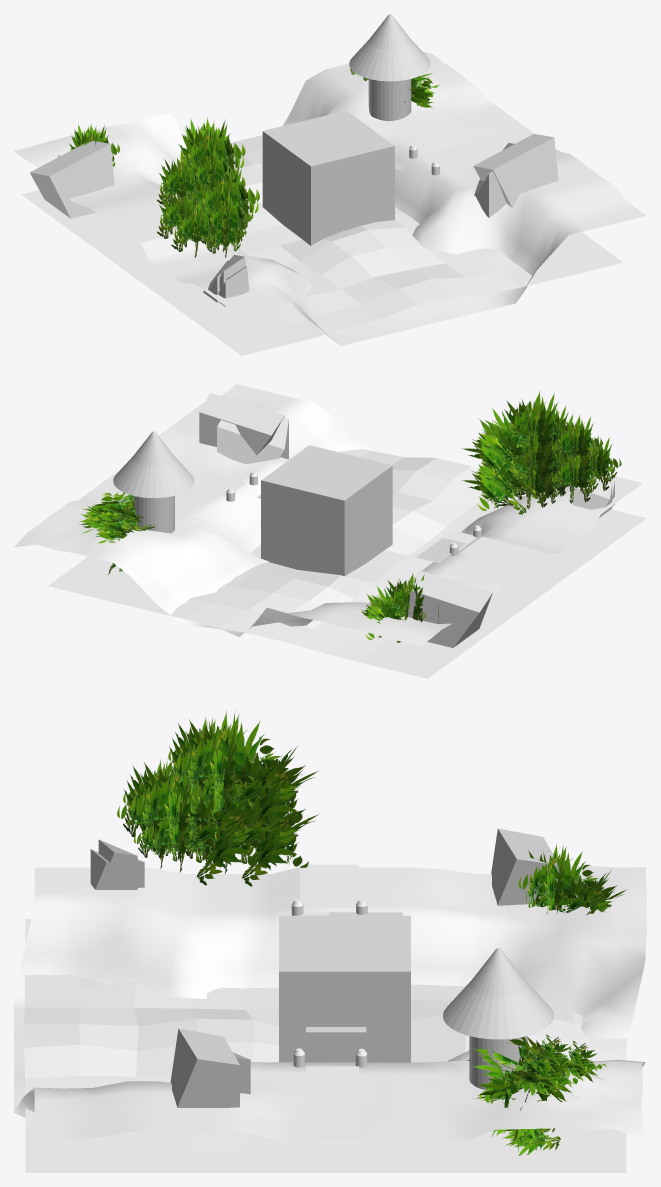
File: nature_river.glb
3 views of the same model, one above another, from view 1: azimuth 30°, elevation 25°; view 2: azimuth 150°, elevation 25°; view 3: azimuth 270°, elevation 25° (orthographic). The views are drawn at different scales.
Parts seen in each view (by area): view 1: Plane, Plane.003, Cube, Cylinder.004, daun.001, daun.004, Cube.004, Cube.003, Plane.004, daun, Cube.002, Plane.005 (+3 smaller); view 2: Plane, Plane.003, Cube, daun.004, daun, Cylinder.004, Cube.004, Cube.003, Cube.002, daun.005, daun.003, Plane.005 (+4 smaller); view 3: Plane, Plane.003, Cube, daun.004, daun.001, Cylinder.004, Cube.003, daun, daun.003, Plane.004, daun.005, Cube.004 (+3 smaller).
Boxes of the visible parts, box(x1,y1,x2,y2) form: Plane: box(14, 52, 646, 345); Plane.003: box(21, 135, 622, 355); Cube: box(262, 110, 394, 245); Cylinder.004: box(349, 14, 430, 121); daun.001: box(171, 164, 259, 257); daun.004: box(157, 117, 245, 212); Cube.004: box(30, 140, 114, 218); Cube.003: box(473, 134, 558, 207); Plane.004: box(418, 129, 530, 168); daun: box(157, 157, 245, 243); Cube.002: box(474, 143, 514, 217); Plane.005: box(118, 216, 177, 242); Plane: box(14, 384, 642, 646); Plane.003: box(48, 449, 646, 678); Cube: box(261, 445, 392, 576); daun.004: box(462, 390, 602, 482); daun: box(461, 433, 602, 514); Cylinder.004: box(113, 431, 194, 533); Cube.004: box(407, 570, 492, 647); Cube.003: box(199, 393, 284, 455); Cube.002: box(217, 417, 288, 464); daun.005: box(78, 493, 143, 543); daun.003: box(361, 572, 439, 642); Plane.005: box(461, 537, 546, 568); Plane: box(14, 865, 646, 1139); Plane.003: box(24, 919, 626, 1172); Cube: box(279, 915, 410, 1062); daun.004: box(162, 710, 319, 842); daun.001: box(117, 758, 259, 885); Cylinder.004: box(443, 947, 554, 1089); Cube.003: box(170, 1028, 239, 1107); daun: box(166, 768, 318, 886); daun.003: box(518, 843, 627, 915); Plane.004: box(306, 1066, 359, 1135); daun.005: box(479, 1034, 606, 1152); Cube.004: box(491, 828, 559, 905).
Bounding box in the file's own units: 10.29 × 4.09 × 9.59.
Materials: 7 (1 with a texture image).
